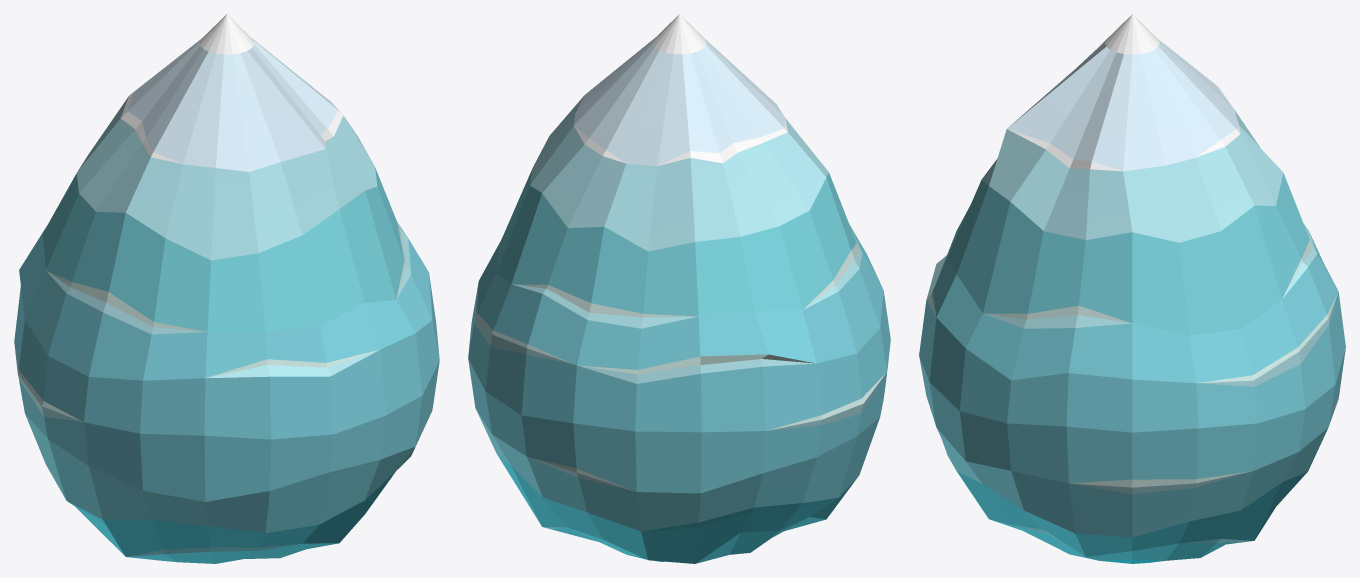
File: SKYBOXFPS.fbx
3 views of the same model, side by side, from view 1: azimuth 30°, elevation 25°; view 2: azimuth 150°, elevation 25°; view 3: azimuth 270°, elevation 25° (orthographic).
Parts seen in each view (by area): view 1: Sphere; view 2: Sphere; view 3: Sphere.
Boxes of the visible parts, <box> form: Sphere: <box>14,14,439,563</box>; Sphere: <box>468,14,890,563</box>; Sphere: <box>919,14,1345,563</box>.
Size of the model in its own units: 200 by 274 by 200.
Materials: 1 (1 with a texture image).
